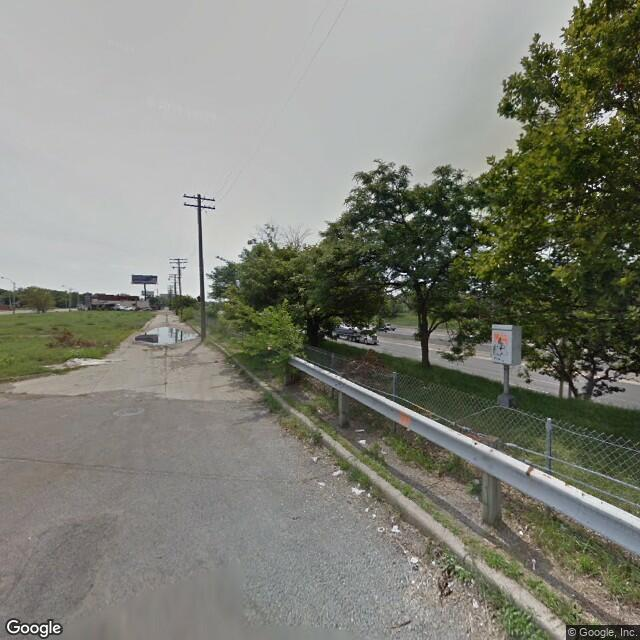litter: (348, 474, 368, 498), (303, 450, 326, 465), (388, 517, 403, 539), (524, 555, 543, 572), (327, 466, 345, 480), (353, 436, 372, 449), (512, 527, 528, 541), (314, 478, 331, 488)
